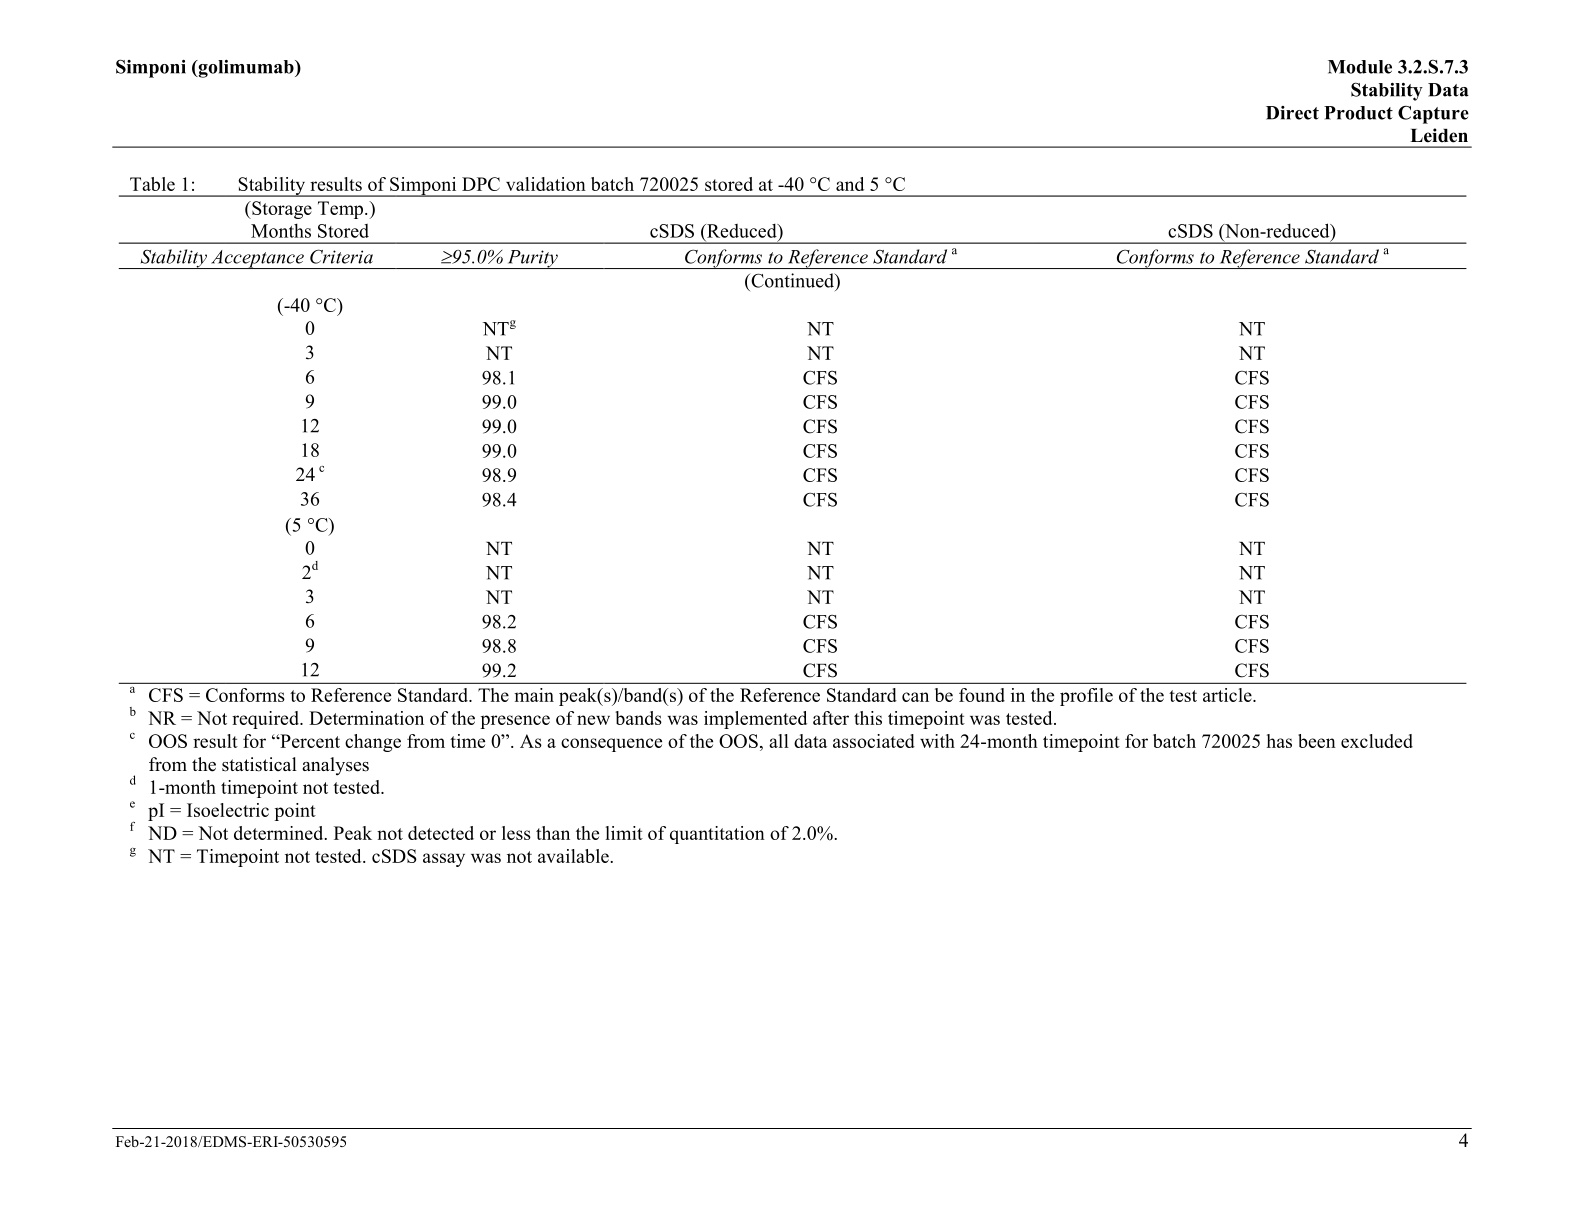partial_lined_merged_cells: (118, 194, 1467, 685)
